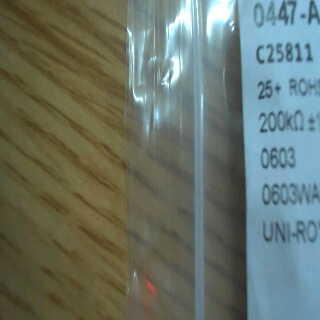200kR: (253, 107, 306, 138)
